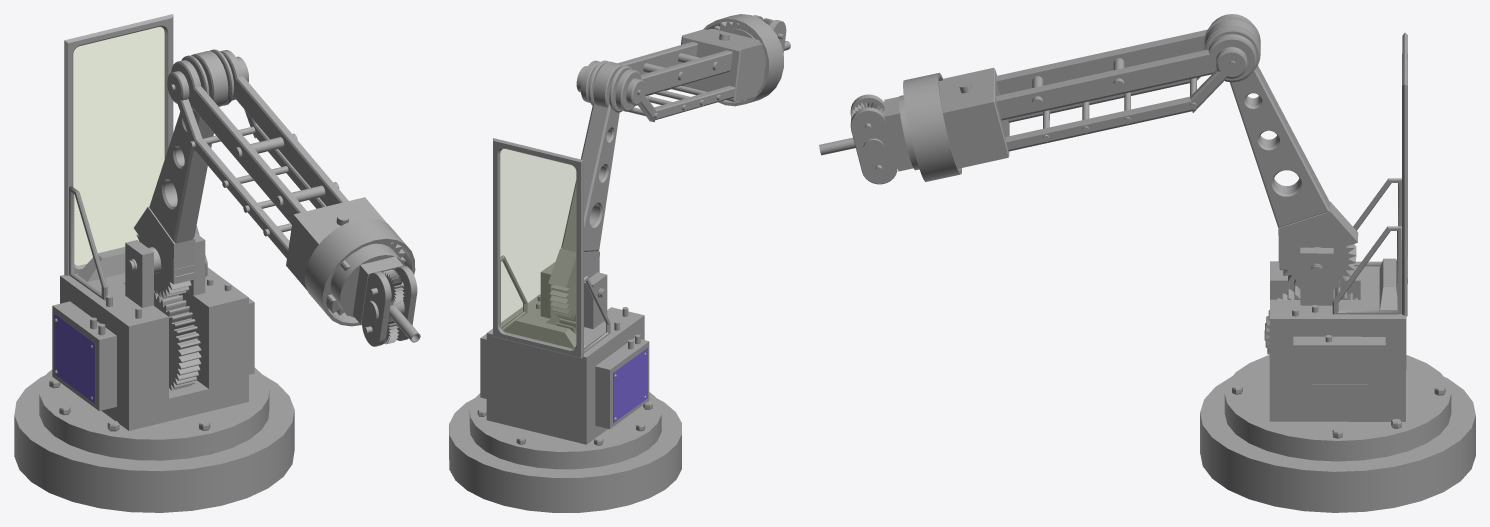
Rendered from Robot.fbx.
The picture shows the model from 3 angles, left to right: view 1: azimuth 30°, elevation 25°; view 2: azimuth 150°, elevation 25°; view 3: azimuth 270°, elevation 25°; orthographic projection. The views are drawn at different scales.
Visible parts, largest first — view 1: Base_Mechanics, BackGlass, EntireRobot, BottomDisc, LowerArm, EndNozzle, OBJ:Rectangle03, OBJ:Rectangle04, OBJ:Rectangle06, OBJ:Rectangle07, LowerGear, OBJ:Cylinder05 (+10 smaller); view 2: Base_Mechanics, BackGlass, EntireRobot, BottomDisc, LowerArm, OBJ:Rectangle07, OBJ:Rectangle03, EndNozzle, OBJ:Rectangle06, OBJ:Rectangle04, LowerArmGear, OBJ:Circle03; view 3: Base_Mechanics, EntireRobot, BottomDisc, LowerArm, OBJ:Rectangle04, OBJ:Rectangle07, OBJ:Rectangle05, OBJ:Rectangle03, EndNozzle, OBJ:Circle05, LowerArmGear, OBJ:Box05 (+1 smaller).
Boxes of the visible parts, left/top/right/bottom form: Base_Mechanics: left=52, top=14, right=254, bottom=430; BackGlass: left=73, top=27, right=164, bottom=265; EntireRobot: left=14, top=375, right=294, bottom=512; BottomDisc: left=39, top=367, right=269, bottom=460; LowerArm: left=134, top=110, right=213, bottom=283; EndNozzle: left=305, top=218, right=415, bottom=326; OBJ:Rectangle03: left=171, top=60, right=350, bottom=270; OBJ:Rectangle04: left=220, top=50, right=348, bottom=206; OBJ:Rectangle06: left=167, top=71, right=338, bottom=311; OBJ:Rectangle07: left=286, top=197, right=386, bottom=290; LowerGear: left=154, top=290, right=201, bottom=390; OBJ:Cylinder05: left=330, top=243, right=405, bottom=317; Base_Mechanics: left=480, top=138, right=649, bottom=444; BackGlass: left=500, top=149, right=575, bottom=348; EntireRobot: left=449, top=398, right=681, bottom=512; BottomDisc: left=469, top=392, right=661, bottom=469; LowerArm: left=548, top=102, right=619, bottom=287; OBJ:Rectangle07: left=681, top=28, right=765, bottom=101; OBJ:Rectangle03: left=615, top=50, right=732, bottom=111; EndNozzle: left=703, top=14, right=783, bottom=106; OBJ:Rectangle06: left=626, top=78, right=763, bottom=122; OBJ:Rectangle04: left=580, top=42, right=697, bottom=102; LowerArmGear: left=549, top=284, right=606, bottom=320; OBJ:Circle03: left=593, top=61, right=623, bottom=107; Base_Mechanics: left=1269, top=32, right=1407, bottom=421; EntireRobot: left=1200, top=376, right=1475, bottom=512; BottomDisc: left=1224, top=355, right=1451, bottom=461; LowerArm: left=1229, top=66, right=1358, bottom=268; OBJ:Rectangle04: left=996, top=34, right=1256, bottom=120; OBJ:Rectangle07: left=939, top=67, right=1009, bottom=168; OBJ:Rectangle05: left=1005, top=47, right=1247, bottom=151; OBJ:Rectangle03: left=996, top=14, right=1251, bottom=94; EndNozzle: left=903, top=72, right=961, bottom=181; OBJ:Circle05: left=850, top=107, right=897, bottom=184; LowerArmGear: left=1278, top=244, right=1356, bottom=287; OBJ:Box05: left=884, top=96, right=913, bottom=171.
Bounding box in the file's own units: 12.16 × 21 × 28.96.
